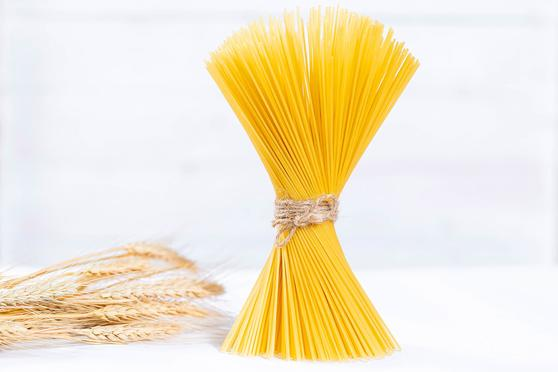spaghetti: (201, 17, 418, 360)
